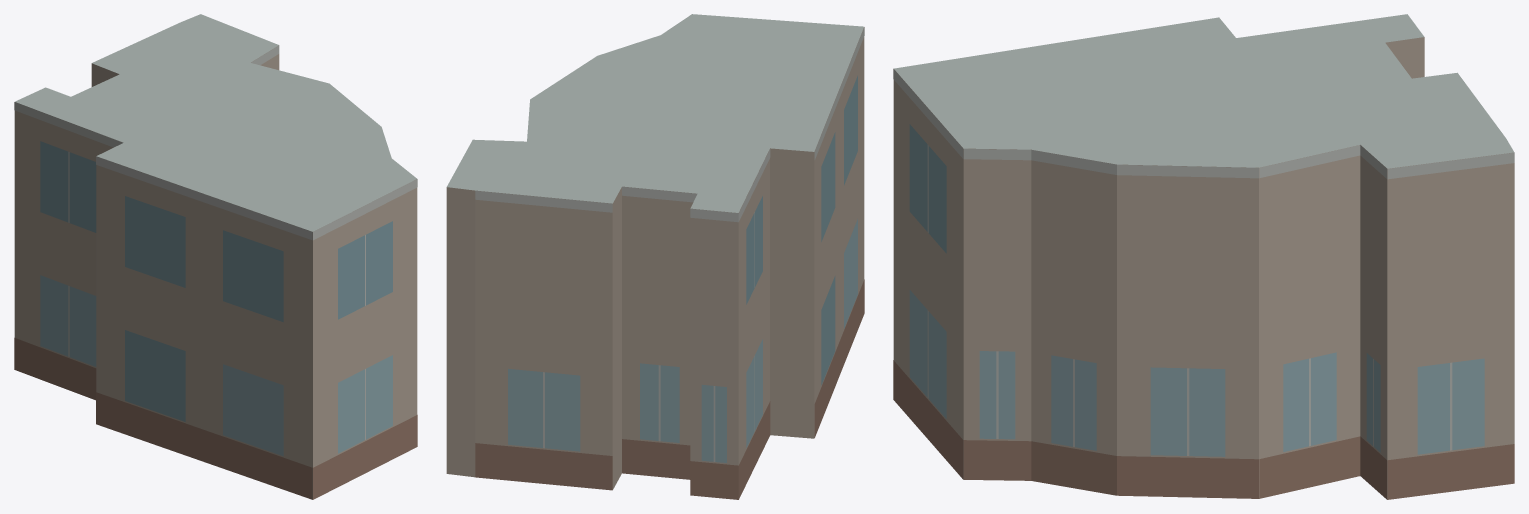
The model's file is survey-upis-32691001.glb.
The picture shows the model from 3 angles, left to right: view 1: azimuth 30°, elevation 25°; view 2: azimuth 150°, elevation 25°; view 3: azimuth 270°, elevation 25°; orthographic projection. The views are drawn at different scales.
Parts seen in each view (by area): view 1: survey-upis-32691001.tmp; view 2: survey-upis-32691001.tmp; view 3: survey-upis-32691001.tmp.
Part boxes in pixels (left/top/right/bottom): survey-upis-32691001.tmp: left=14, top=14, right=417, bottom=499; survey-upis-32691001.tmp: left=446, top=14, right=864, bottom=499; survey-upis-32691001.tmp: left=893, top=14, right=1514, bottom=499.
Bounding box in the file's own units: 7.63 × 7.6 × 12.92.
